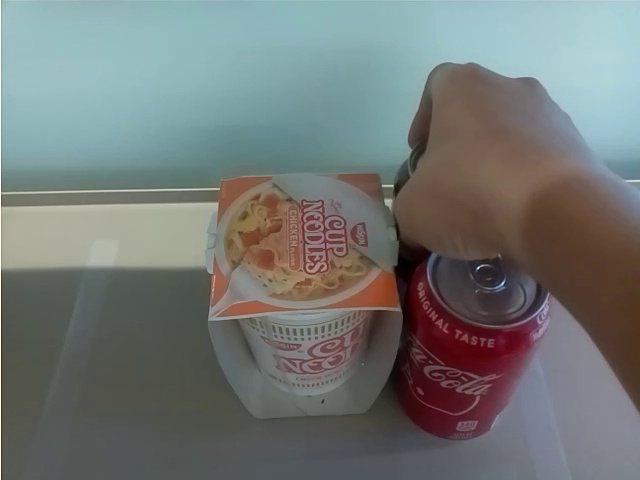cocacola: (401, 243, 554, 444)
hand: (389, 53, 607, 266)
noodles: (198, 173, 401, 419)
